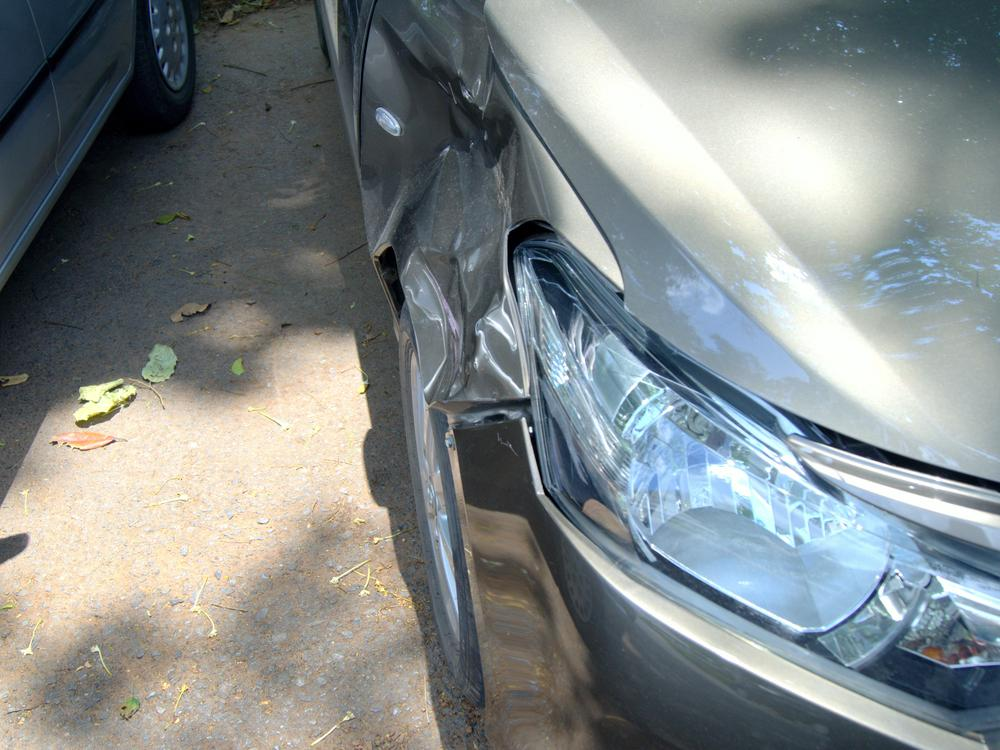dent: (362, 10, 525, 400)
